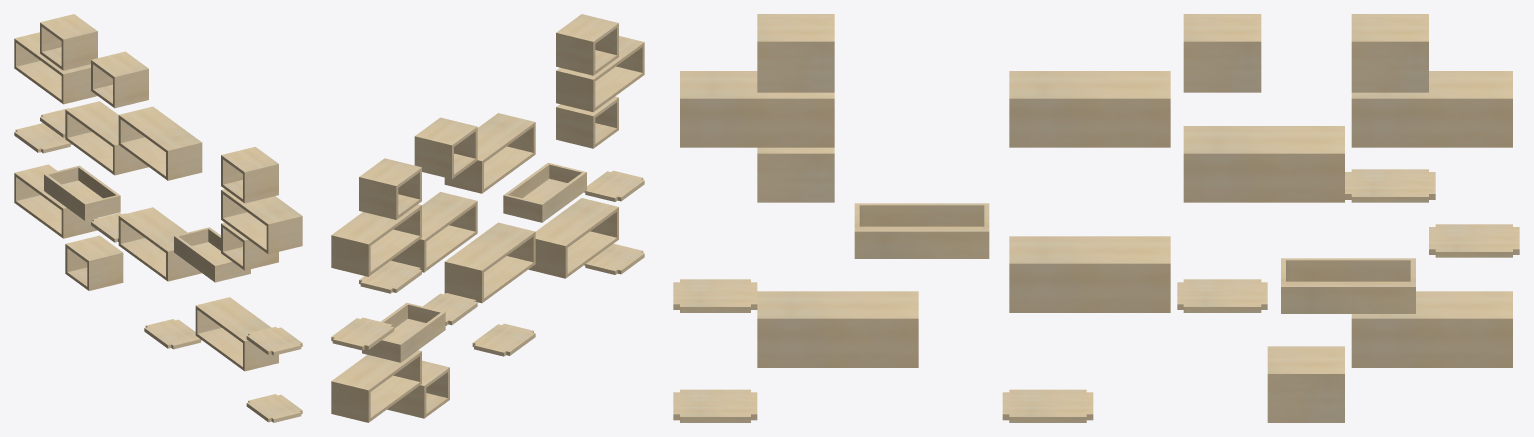
The model's file is shelf.obj.
3 renders of one model, left to right at view 1: azimuth 30°, elevation 25°; view 2: azimuth 150°, elevation 25°; view 3: azimuth 270°, elevation 25°, orthographic. The views are drawn at different scales.
Visible parts, largest first — view 1: group62 _Shelf:pCube312, group62 _Shelf:pCube309, group62 _Shelf:pCube310, group62 _Shelf:pCube313, group62 _Shelf:pCube314, group62 _Shelf:pCube330, group62 _Shelf:pCube328, group62 _Shelf:pCube316, group62 _Shelf:pCube319, group62 _Shelf:pCube317, group62 _Shelf:pCube318, group62 _Shelf:pCube320 (+8 smaller); view 2: group62 _Shelf:pCube313, group62 _Shelf:pCube309, group62 _Shelf:pCube316, group62 _Shelf:pCube330, group62 _Shelf:pCube312, group62 _Shelf:pCube314, group62 _Shelf:pCube310, _Shelf:pCube329 group62, group62 _Shelf:pCube318, group62 _Shelf:pCube317, group62 _Shelf:pCube319, group62 _Shelf:pCube328 (+8 smaller); view 3: group62 _Shelf:pCube314, group62 _Shelf:pCube309, group62 _Shelf:pCube313, group62 _Shelf:pCube312, group62 _Shelf:pCube316, group62 _Shelf:pCube330, group62 _Shelf:pCube310, _Shelf:pCube329 group62, group62 _Shelf:pCube328, group62 _Shelf:pCube319, group62 _Shelf:pCube318, group62 _Shelf:pCube317 (+8 smaller).
Part boxes in pixels (x1,y1,x2,y2): group62 _Shelf:pCube312: (118, 106, 202, 180); group62 _Shelf:pCube309: (195, 297, 278, 371); group62 _Shelf:pCube310: (221, 189, 302, 254); group62 _Shelf:pCube313: (118, 207, 201, 281); group62 _Shelf:pCube314: (65, 101, 148, 175); group62 _Shelf:pCube330: (14, 32, 97, 104); group62 _Shelf:pCube328: (44, 165, 120, 220); group62 _Shelf:pCube316: (14, 164, 97, 238); group62 _Shelf:pCube319: (91, 51, 148, 108); group62 _Shelf:pCube317: (221, 146, 278, 203); group62 _Shelf:pCube318: (40, 14, 97, 70); group62 _Shelf:pCube320: (65, 235, 123, 290); group62 _Shelf:pCube313: (444, 222, 535, 303); group62 _Shelf:pCube309: (528, 198, 618, 278); group62 _Shelf:pCube316: (331, 350, 421, 422); group62 _Shelf:pCube330: (331, 204, 421, 276); group62 _Shelf:pCube312: (444, 113, 535, 193); group62 _Shelf:pCube314: (391, 192, 477, 272); group62 _Shelf:pCube310: (556, 36, 644, 112); _Shelf:pCube329 group62: (503, 162, 586, 222); group62 _Shelf:pCube318: (359, 158, 421, 219); group62 _Shelf:pCube317: (556, 14, 618, 75); group62 _Shelf:pCube319: (414, 117, 477, 178); group62 _Shelf:pCube328: (362, 302, 445, 362); group62 _Shelf:pCube314: (1183, 126, 1344, 202); group62 _Shelf:pCube309: (757, 291, 918, 367); group62 _Shelf:pCube313: (1009, 236, 1170, 312); group62 _Shelf:pCube312: (1009, 71, 1170, 147); group62 _Shelf:pCube316: (1351, 291, 1512, 367); group62 _Shelf:pCube330: (1351, 71, 1512, 147); group62 _Shelf:pCube310: (680, 71, 834, 147); _Shelf:pCube329 group62: (854, 203, 989, 258); group62 _Shelf:pCube328: (1281, 258, 1415, 313); group62 _Shelf:pCube319: (1183, 14, 1261, 92); group62 _Shelf:pCube318: (1351, 14, 1428, 92); group62 _Shelf:pCube317: (757, 14, 834, 92).
Size of the model in its own units: 31.22 by 194 by 390.
